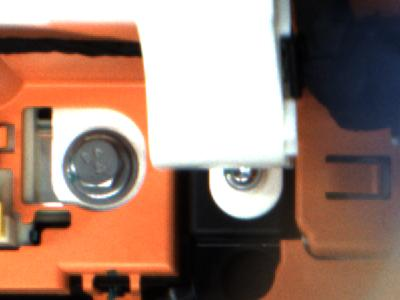nut_b: (60, 126, 139, 204)
